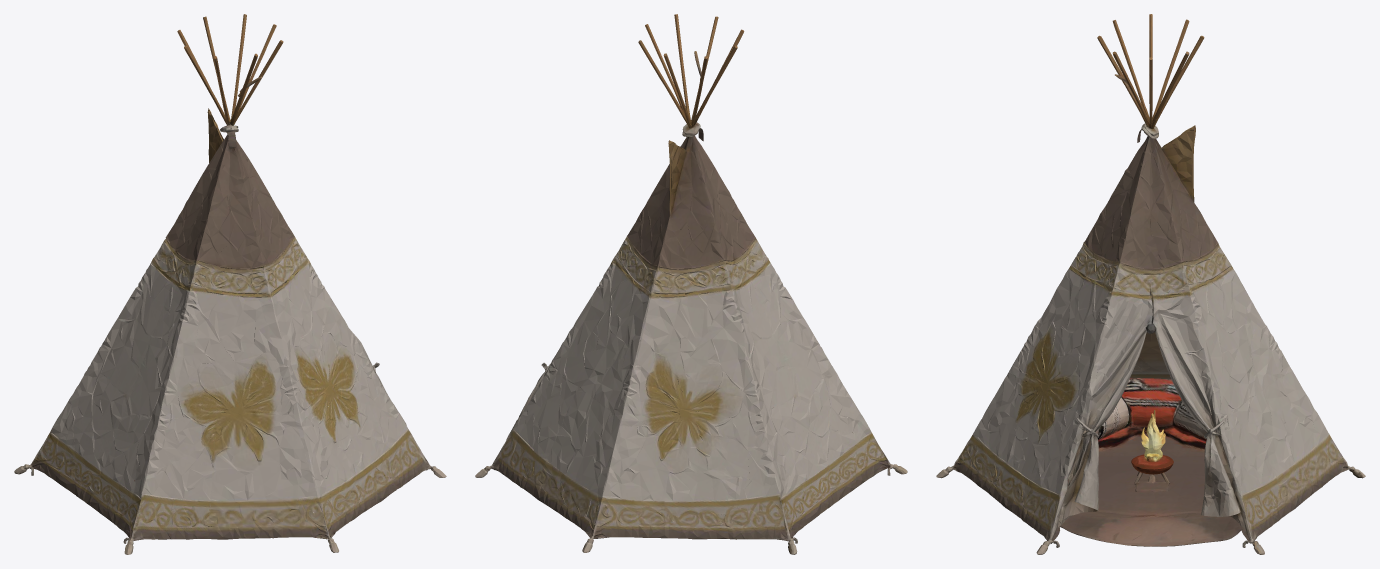
File: tipi.yellowbutterfly.lite.glb
The picture shows the model from 3 angles, left to right: view 1: azimuth 30°, elevation 25°; view 2: azimuth 150°, elevation 25°; view 3: azimuth 270°, elevation 25°; orthographic projection.
Visible parts, largest first — view 1: tripo_node_c34ee706-acd6-4dc8-b86d-f25055d22140; view 2: tripo_node_c34ee706-acd6-4dc8-b86d-f25055d22140; view 3: tripo_node_c34ee706-acd6-4dc8-b86d-f25055d22140.
Boxes of the visible parts, box(x1,y1,x2,y2) form: tripo_node_c34ee706-acd6-4dc8-b86d-f25055d22140: box(14, 14, 446, 554); tripo_node_c34ee706-acd6-4dc8-b86d-f25055d22140: box(475, 14, 907, 554); tripo_node_c34ee706-acd6-4dc8-b86d-f25055d22140: box(936, 14, 1365, 554).
Size of the model in its own units: 0.7626 by 0.9999 by 0.8827.
Materials: 1 (1 with a texture image).
